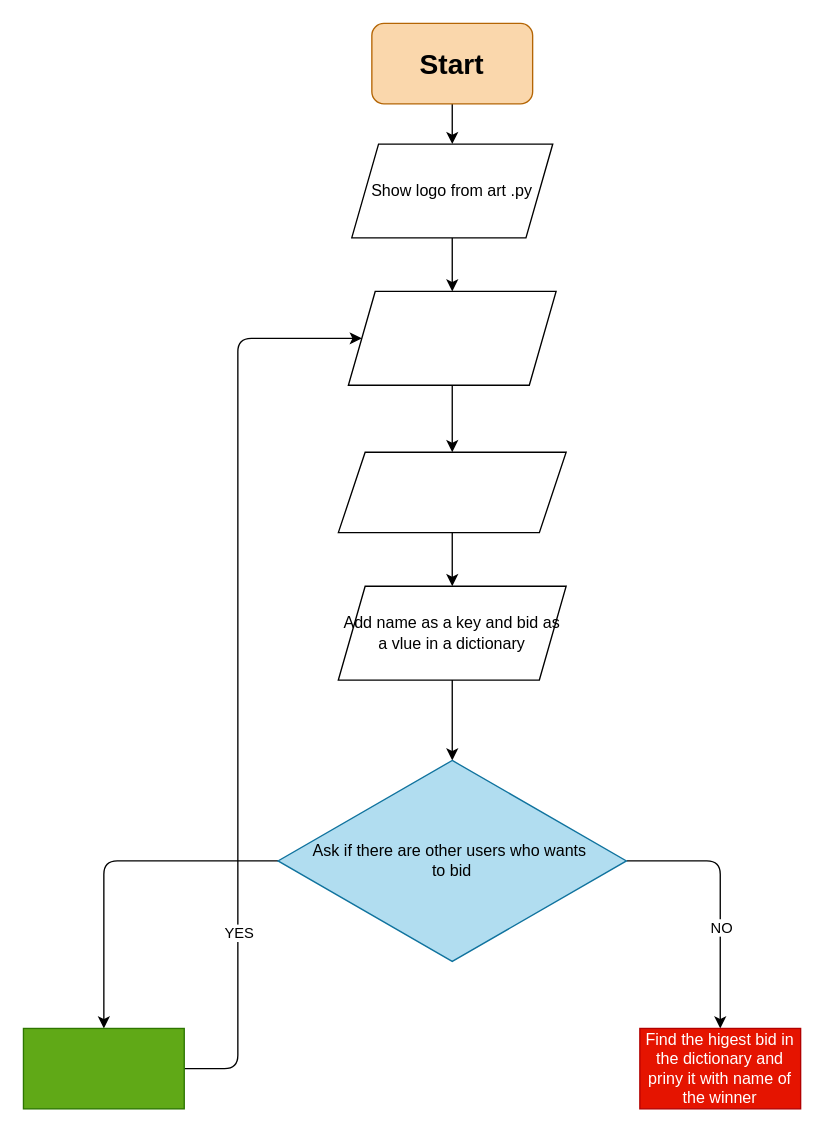
Some shapes in this 824 by 1132 pixel diagram are drawn without their labels. The box of each missing label's shape, as (x1, y1, x2, y2) in pixels:
Ask for bid price ?: (337, 451, 566, 533)
Ask for name input ?: (347, 290, 556, 385)
Claer the screen: (22, 1027, 184, 1109)
